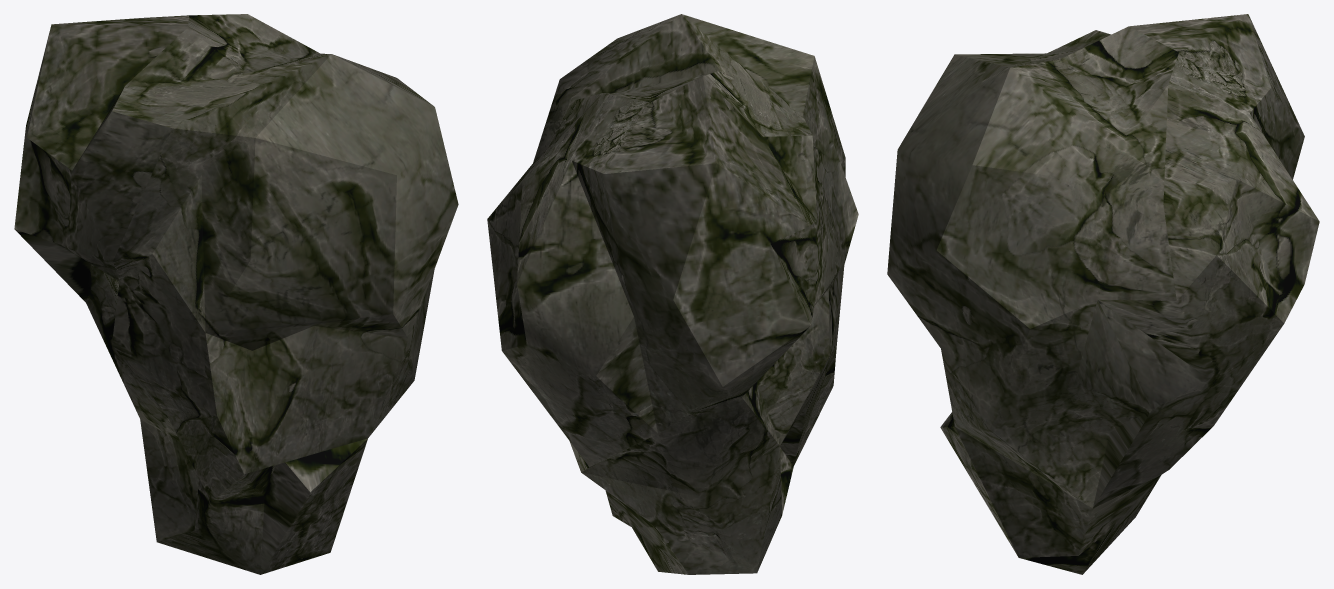
File: TI_Cliff_03_g_LOD_02.fbx
The picture shows the model from 3 angles, left to right: view 1: azimuth 30°, elevation 25°; view 2: azimuth 150°, elevation 25°; view 3: azimuth 270°, elevation 25°; orthographic projection. The views are drawn at different scales.
Parts seen in each view (by area): view 1: TI_Cliff_03_g_LOD_02; view 2: TI_Cliff_03_g_LOD_02; view 3: TI_Cliff_03_g_LOD_02.
Boxes of the visible parts, bbox=[...] form: TI_Cliff_03_g_LOD_02: bbox=[14, 14, 458, 574]; TI_Cliff_03_g_LOD_02: bbox=[487, 14, 858, 574]; TI_Cliff_03_g_LOD_02: bbox=[887, 14, 1319, 574].
Size of the model in its own units: 2.57 by 3.79 by 2.88.
